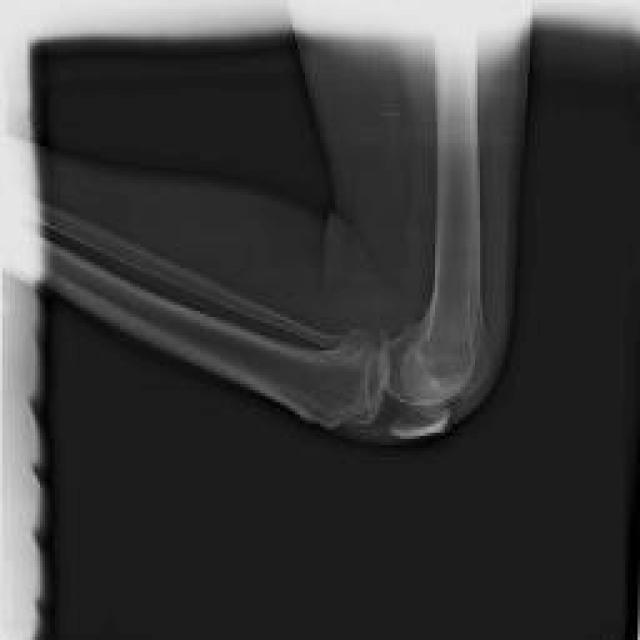normal: (44, 34, 480, 435)
